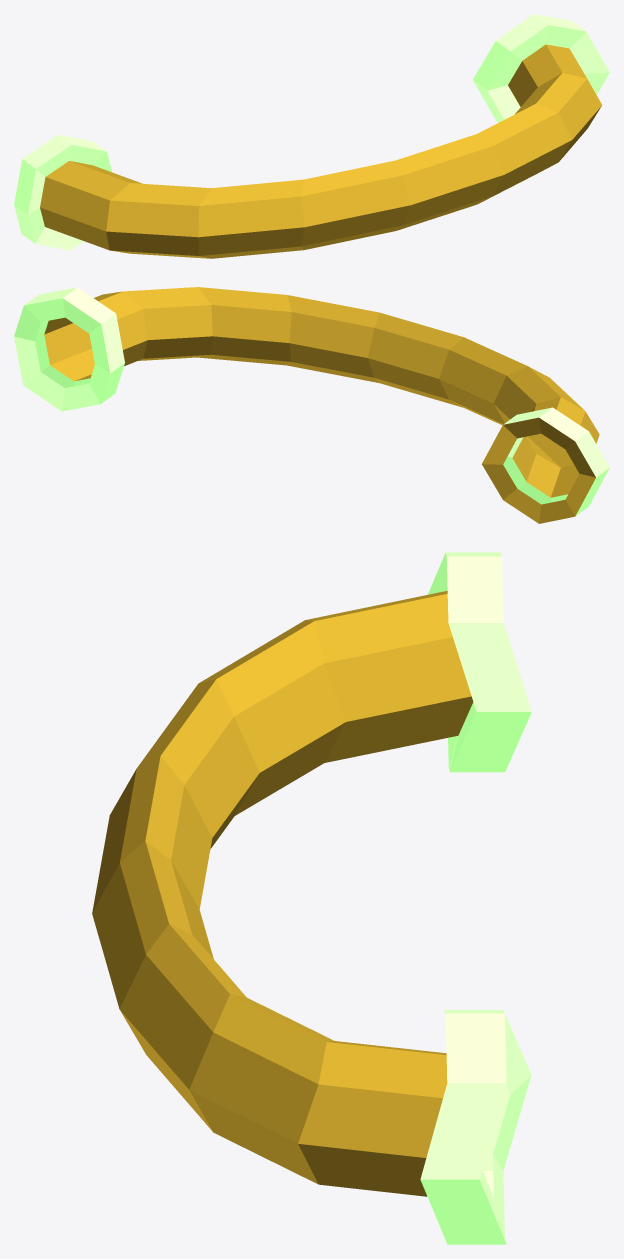
File: Pipe3.fbx
3 renders of one model, top to bottom at view 1: azimuth 30°, elevation 25°; view 2: azimuth 150°, elevation 25°; view 3: azimuth 270°, elevation 25°, orthographic. The views are drawn at different scales.
Parts seen in each view (by area): view 1: Obj_TT_tube.001; view 2: Obj_TT_tube.001; view 3: Obj_TT_tube.001.
Part boxes in pixels (x1,y1,x2,y2): Obj_TT_tube.001: [14, 14, 609, 258]; Obj_TT_tube.001: [14, 287, 609, 523]; Obj_TT_tube.001: [92, 552, 531, 1244].
Bounding box in the file's own units: 844 × 158 × 276.
